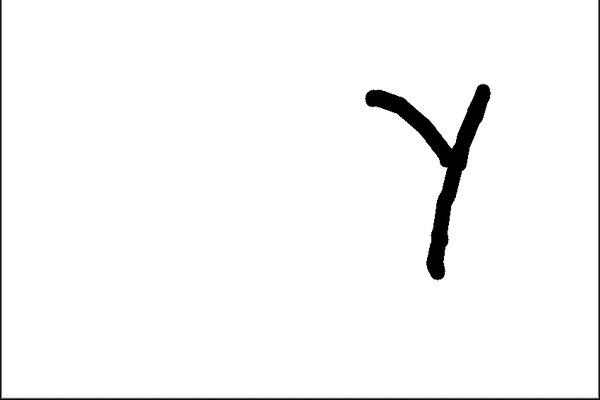Y: (353, 71, 500, 288)
